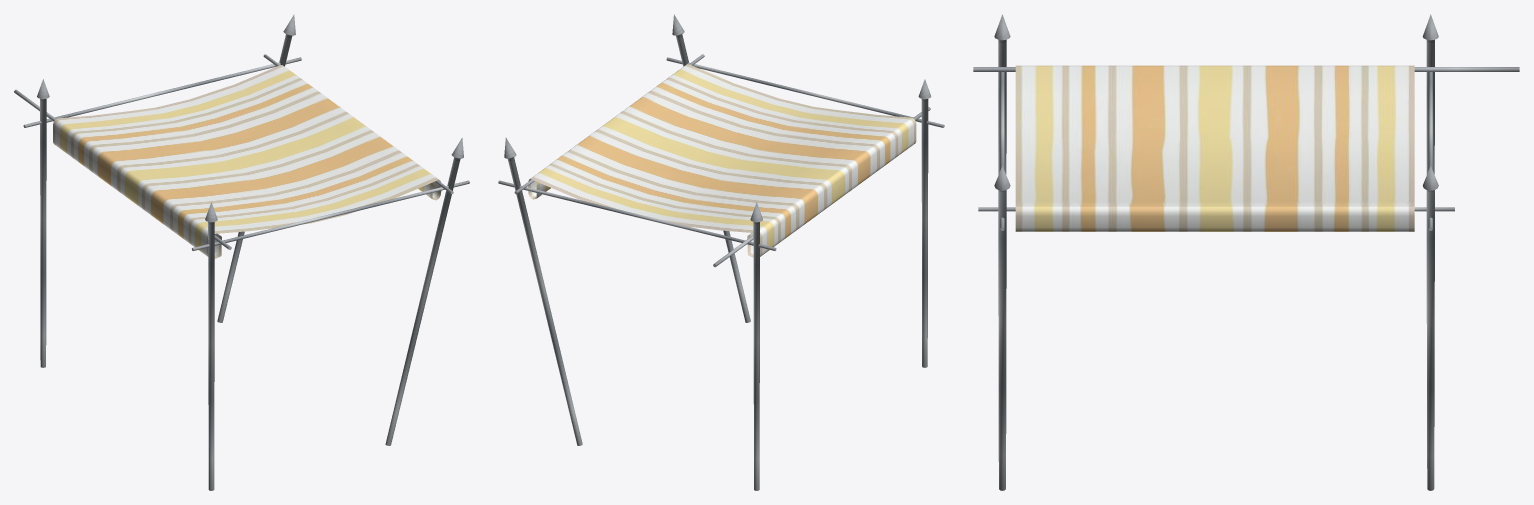
The model's file is tent002.fbx.
The picture shows the model from 3 angles, left to right: view 1: azimuth 30°, elevation 25°; view 2: azimuth 150°, elevation 25°; view 3: azimuth 270°, elevation 25°; orthographic projection. The views are drawn at different scales.
Visible parts, largest first — view 1: tent002; view 2: tent002; view 3: tent002.
Boxes of the visible parts, left/top/right/bottom form: tent002: left=14, top=14, right=469, bottom=490; tent002: left=498, top=14, right=944, bottom=490; tent002: left=973, top=14, right=1519, bottom=490.
Size of the model in its own units: 95.34 by 96.05 by 128.
